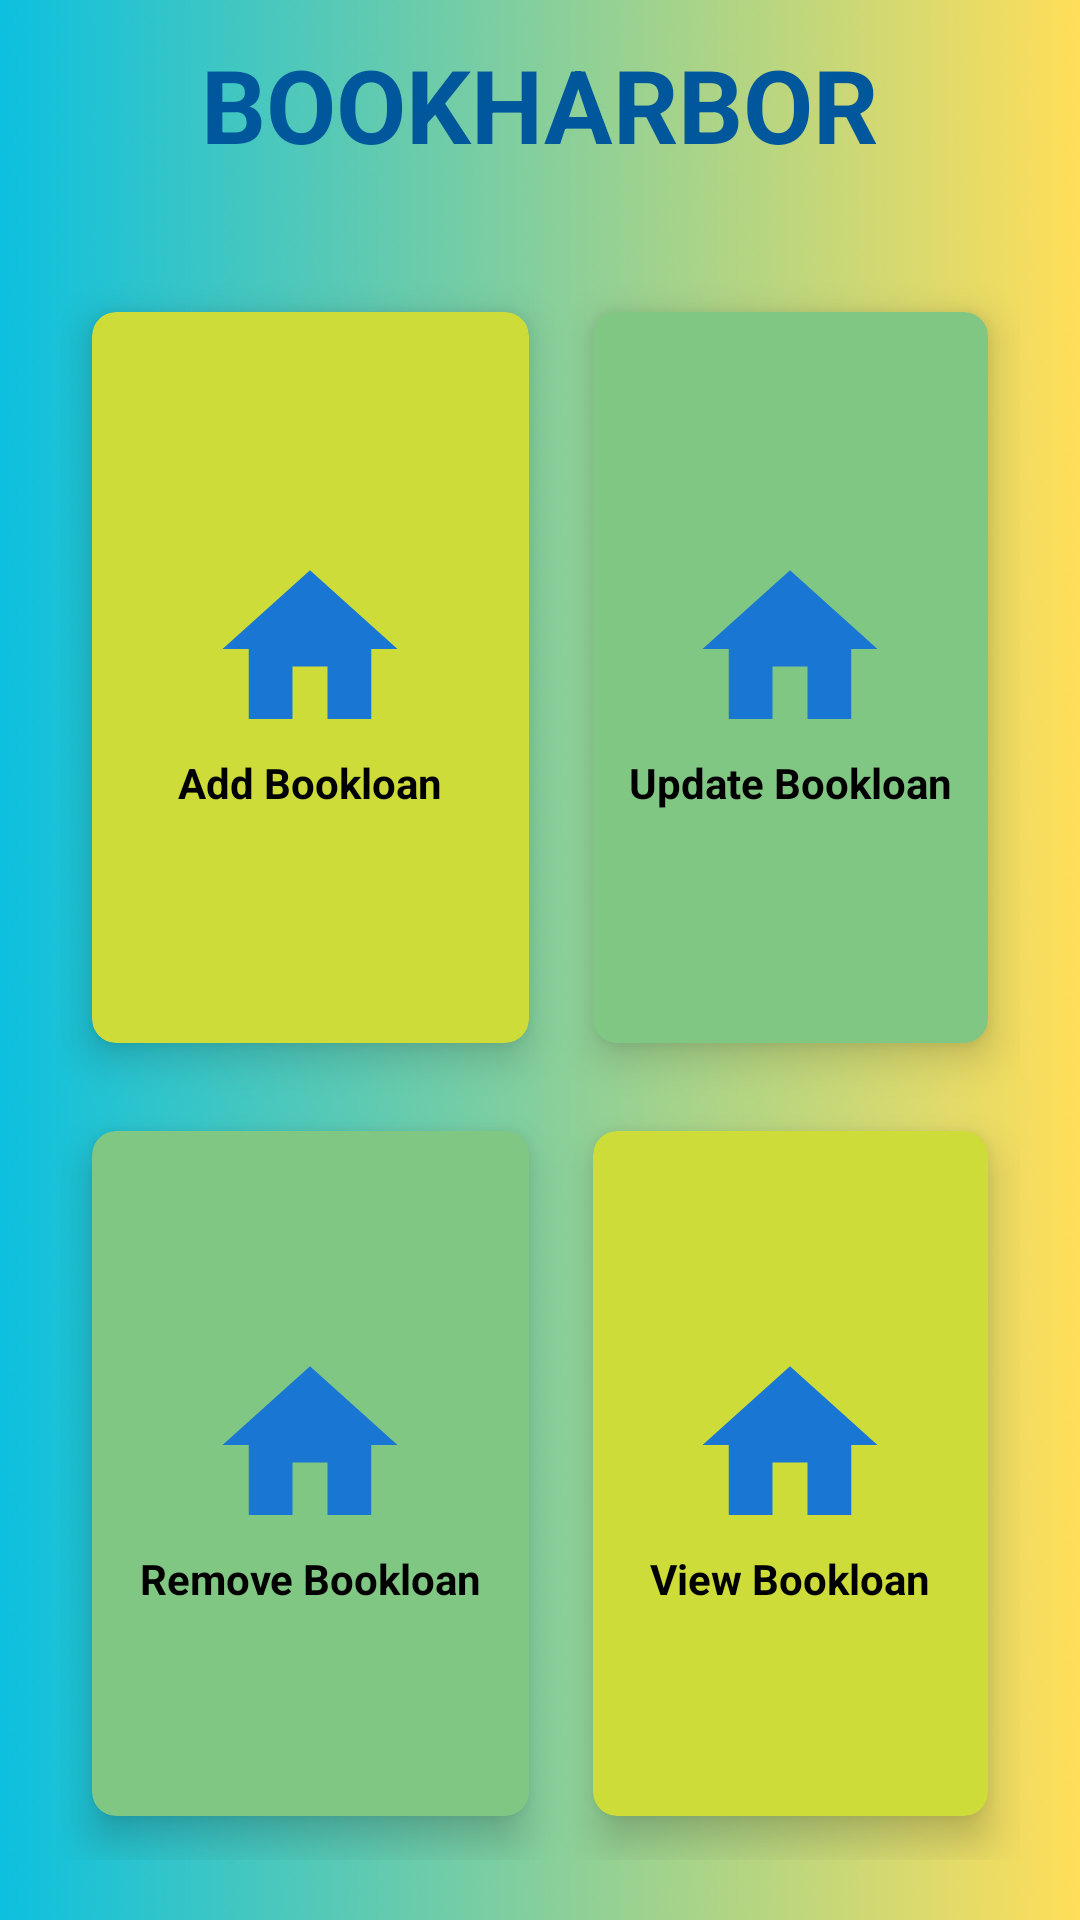

Icon bounding boxes for this 1080w x 1920h phone screenshot, format [left=x1, top=y1, right=x2, bottom=y2]:
home: [left=223, top=570, right=397, bottom=719], [left=703, top=570, right=877, bottom=719], [left=223, top=1366, right=397, bottom=1515], [left=703, top=1366, right=877, bottom=1515]
